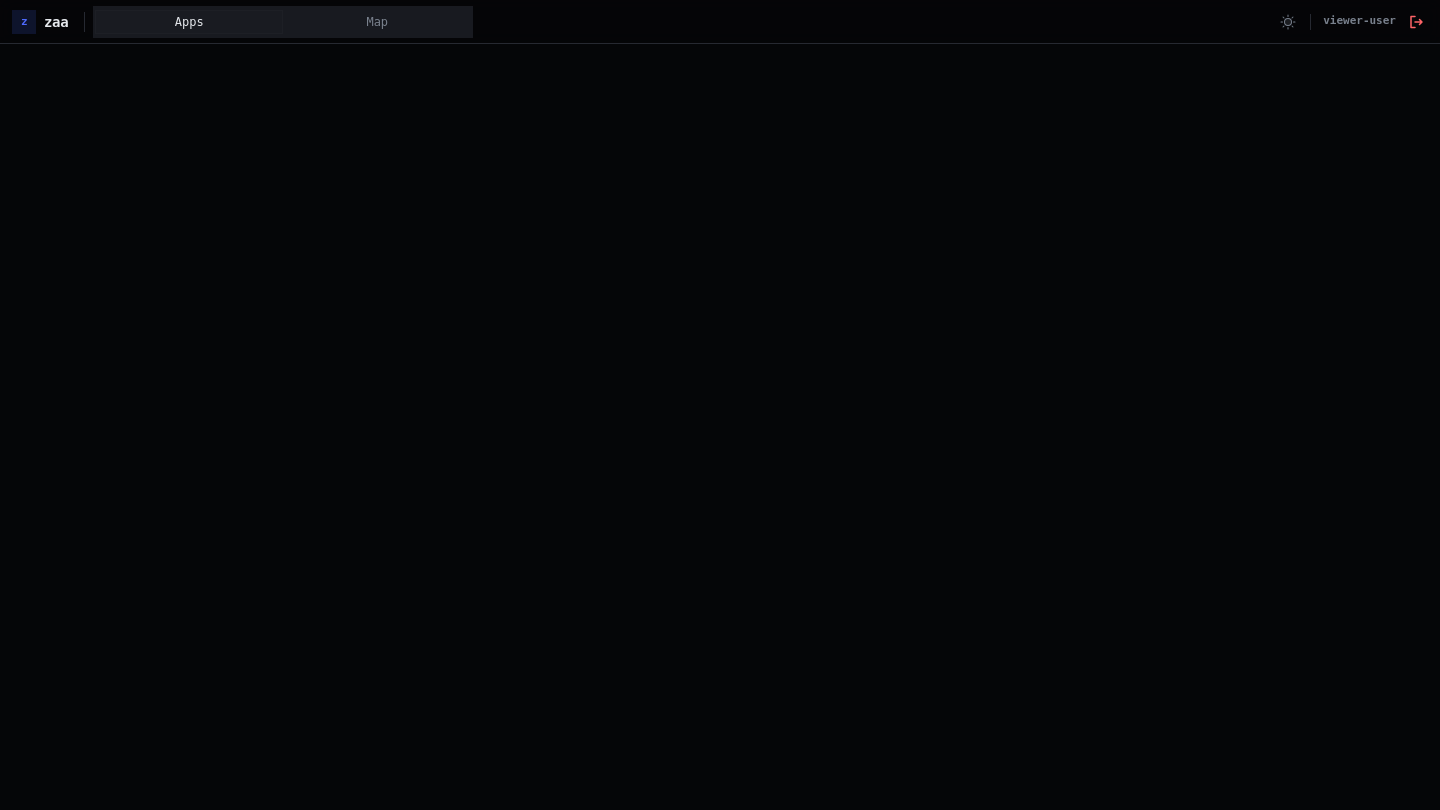
Navbar profile dialog (T-09 & T-10) › shows hidden tabs explanation for viewer role, but not for creator role (T-09)
Later steps or results of the test are not shown.
Click the button titled "viewer-user — view profile". click: click(1360, 22)
box: [1323, 13, 1396, 30]
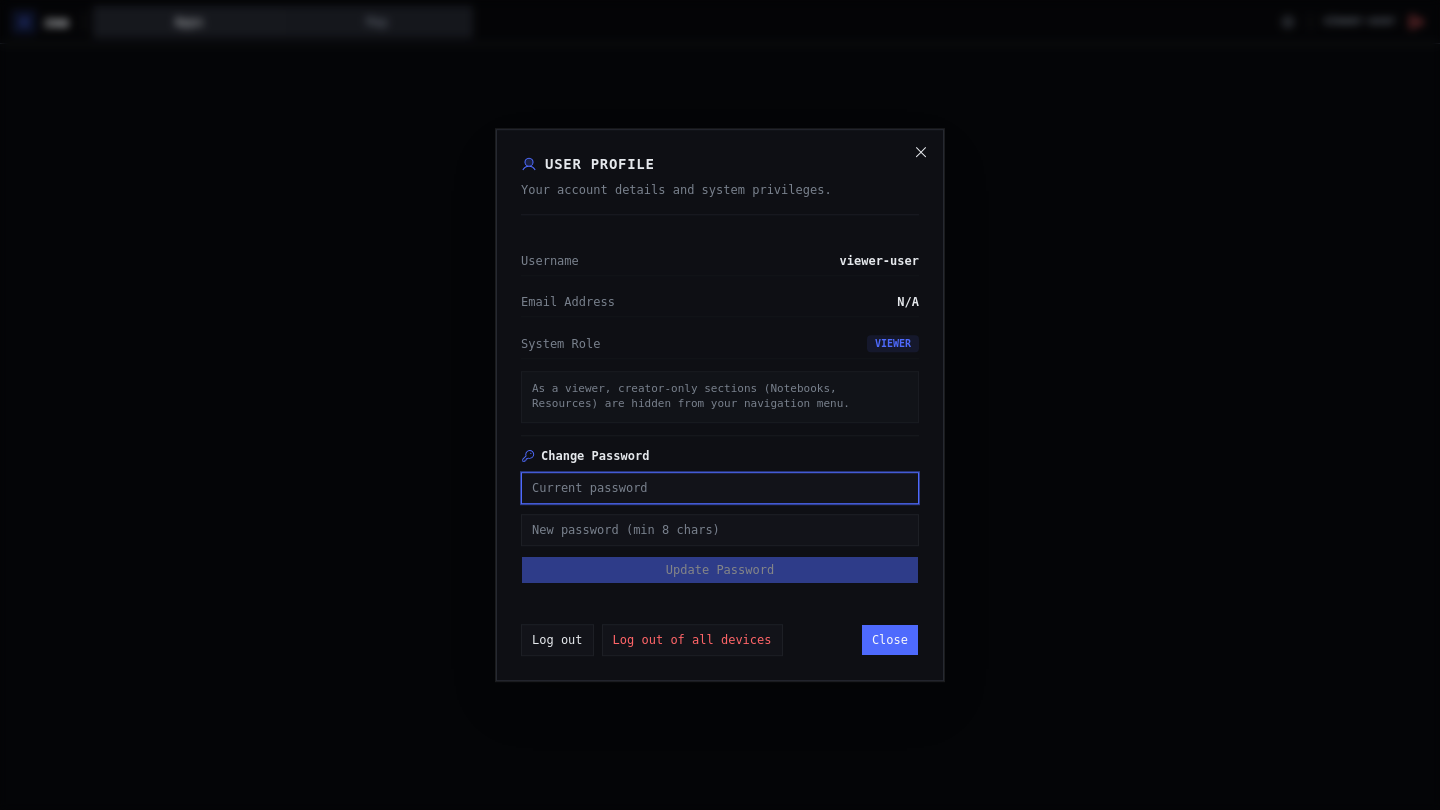
Expected: the text with test id "viewer-explanation" is shown, [521, 372, 919, 423]
Expected: the text with test id "viewer-explanation" shows "Notebooks, Resources", [532, 382, 837, 410]
